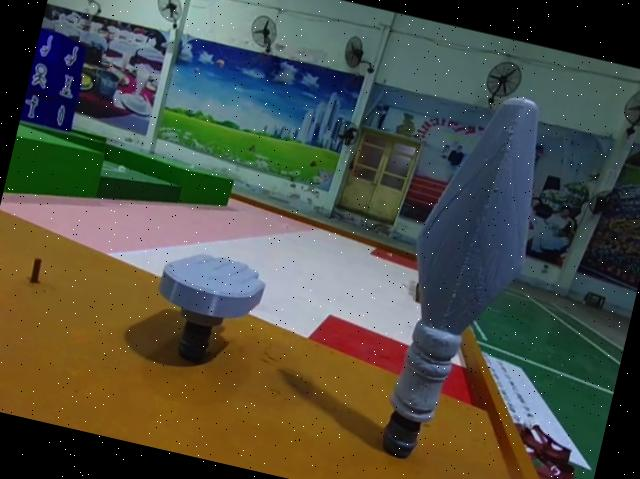Hand: (140, 240, 267, 372)
Sph: (360, 78, 562, 479)
